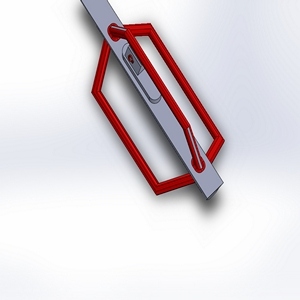submarine: (55, 1, 240, 219)
